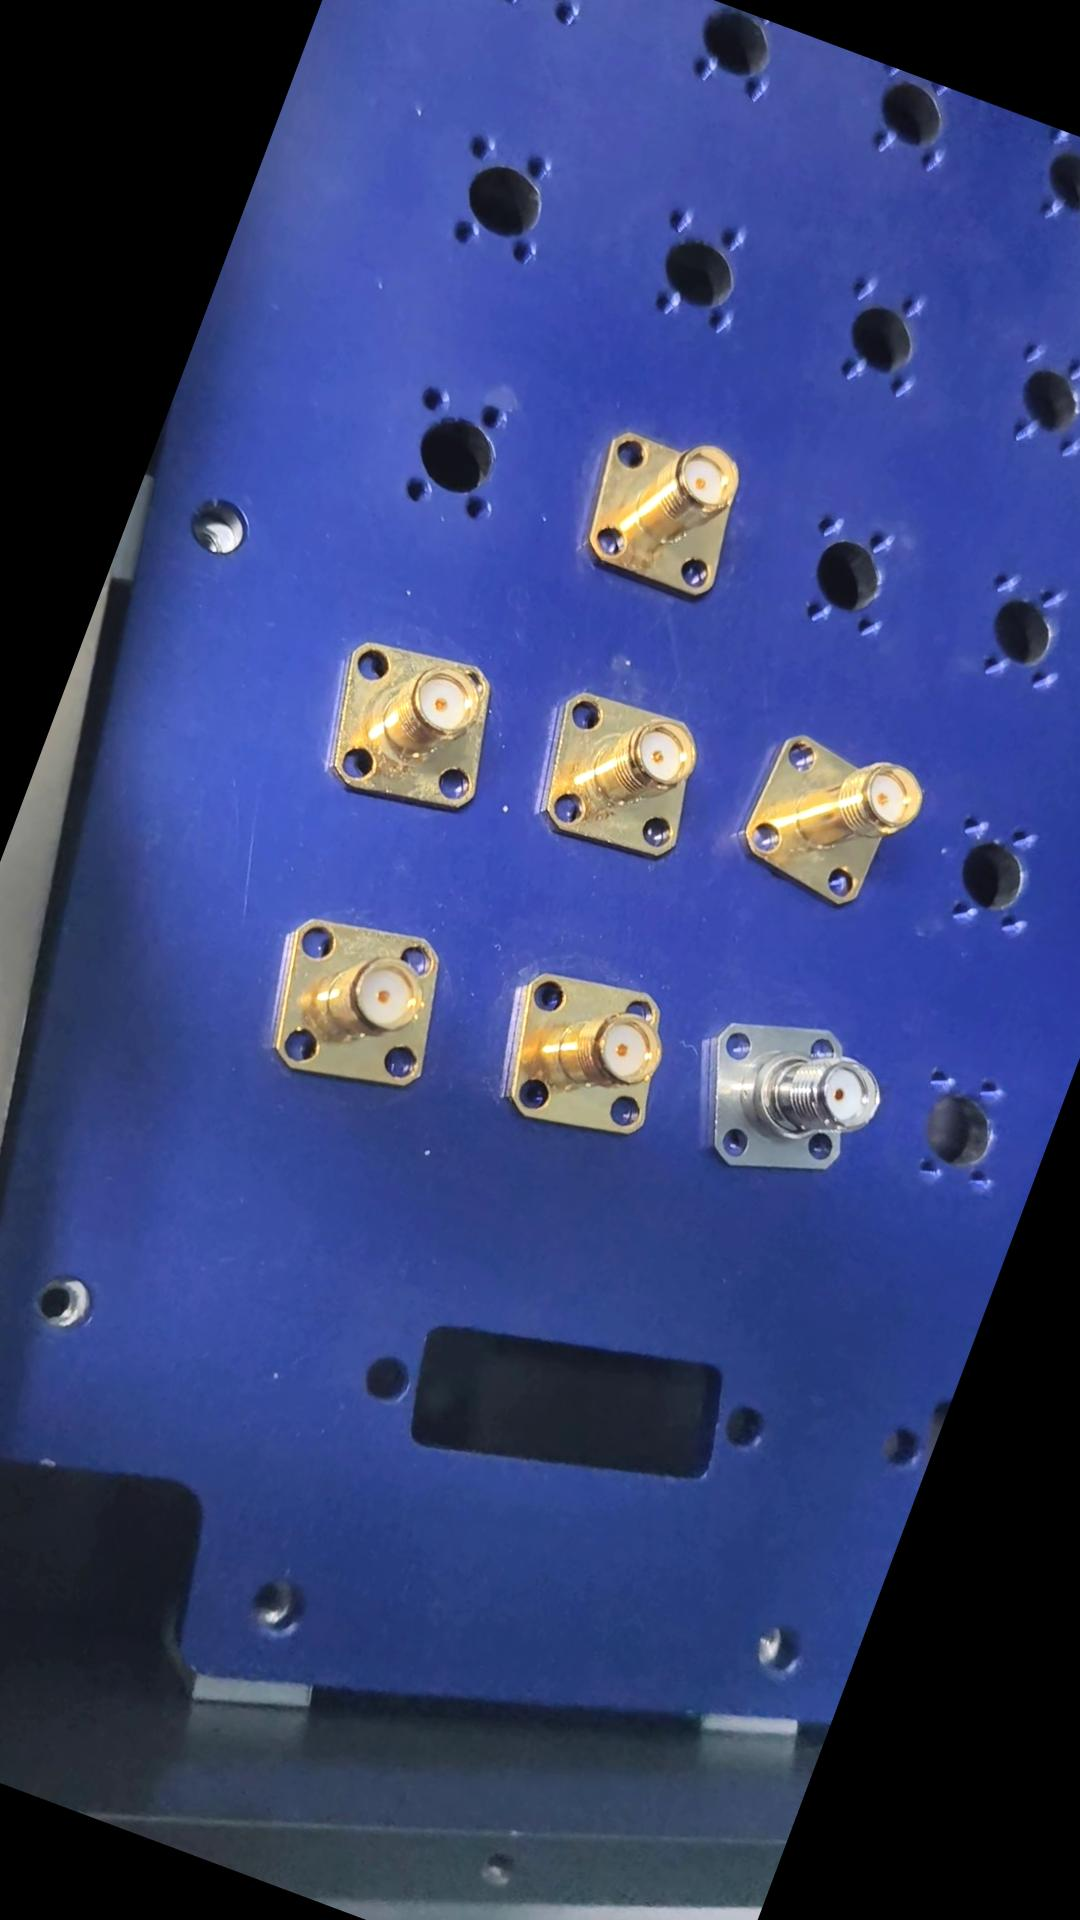SMA: (247, 881, 477, 1117), (473, 938, 694, 1164), (291, 617, 524, 832), (562, 406, 782, 618), (679, 985, 890, 1204), (520, 673, 725, 876), (731, 720, 934, 920)
